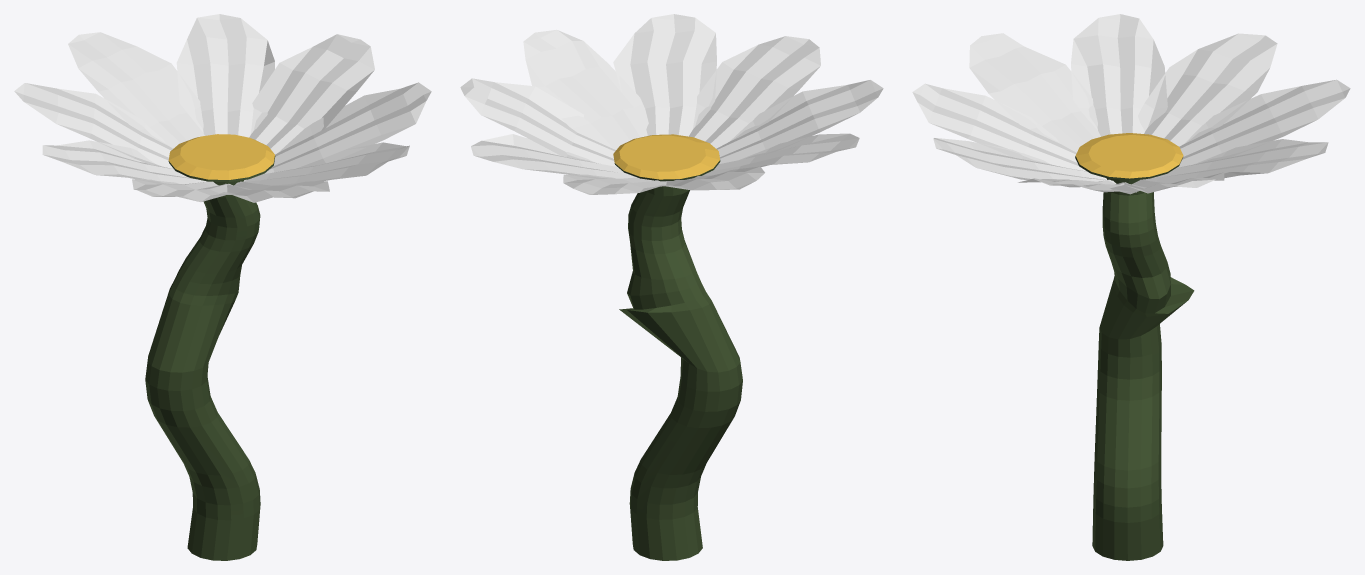
File: Flower1.fbx_Flower1.fbx
The picture shows the model from 3 angles, left to right: view 1: azimuth 30°, elevation 25°; view 2: azimuth 150°, elevation 25°; view 3: azimuth 270°, elevation 25°; orthographic projection.
Parts seen in each view (by area): view 1: Flower, Stem; view 2: Flower, Stem; view 3: Flower, Stem.
Boxes of the visible parts, left/top/right/bottom form: Flower: left=14, top=14, right=431, bottom=202; Stem: left=145, top=134, right=275, bottom=560; Flower: left=460, top=14, right=883, bottom=194; Stem: left=613, top=134, right=742, bottom=560; Flower: left=912, top=14, right=1350, bottom=194; Stem: left=1075, top=133, right=1194, bottom=560.
Bounding box in the file's own units: 717 × 849 × 759.
